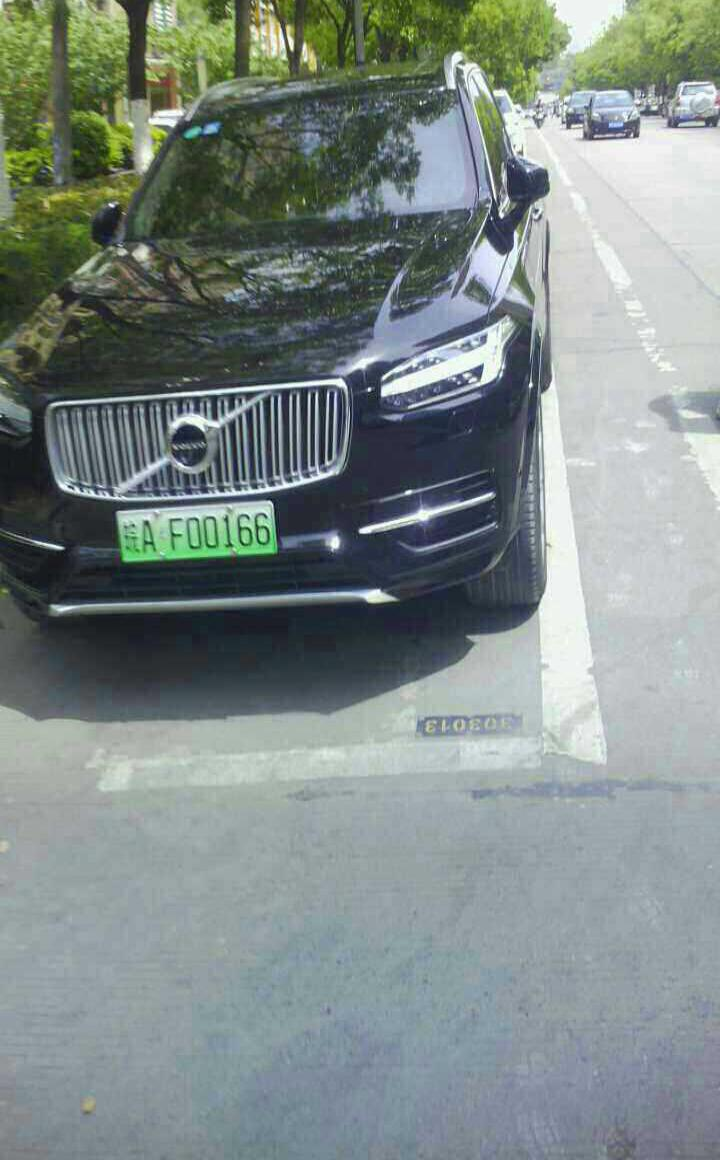car: (108, 509, 282, 559)
